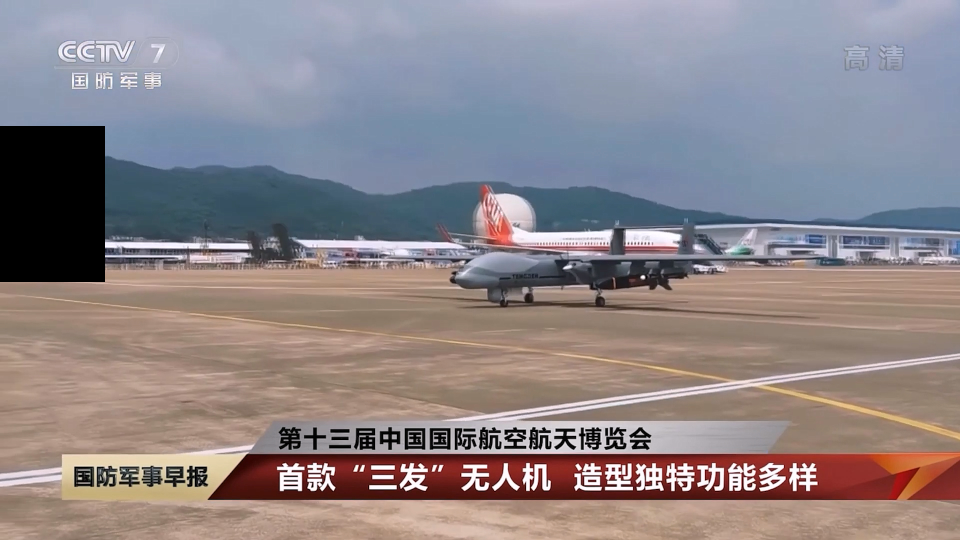airplane: (437, 184, 708, 256)
military drone: (387, 217, 827, 305)
